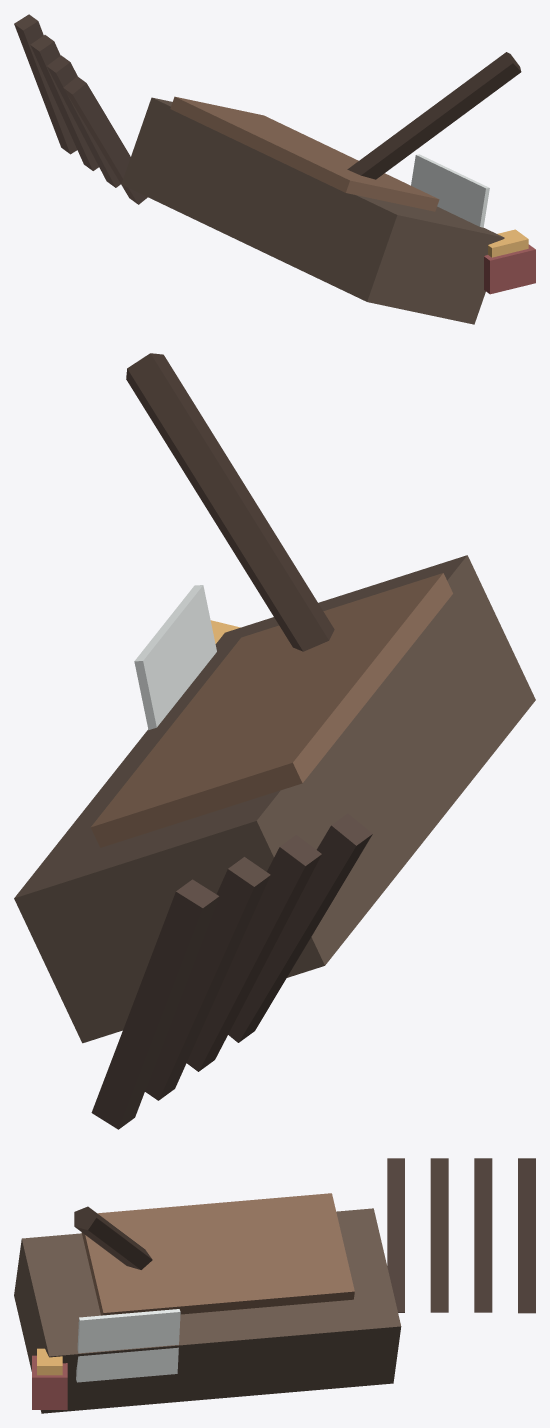
File: shipwreck.glb
The picture shows the model from 3 angles, top to bottom: view 1: azimuth 30°, elevation 25°; view 2: azimuth 150°, elevation 25°; view 3: azimuth 270°, elevation 25°; orthographic projection. The views are drawn at different scales.
Visible parts, largest first — view 1: hull, deck, mast, detail_sail, rib0, rib3, detail_chest, rib2, rib1, detail_gold; view 2: hull, deck, mast, rib3, rib2, rib1, rib0, detail_sail; view 3: hull, deck, detail_sail, rib1, rib2, rib3, rib0, mast, detail_chest, detail_gold.
Boxes of the visible parts, x1,y1,x2,y2 form: hull: (121, 97, 504, 324); deck: (170, 96, 439, 211); mast: (347, 52, 521, 179); detail_sail: (411, 154, 489, 227); rib0: (63, 76, 147, 204); rib3: (14, 14, 77, 154); detail_chest: (484, 244, 535, 294); rib2: (30, 35, 98, 170); rib1: (47, 55, 120, 187); detail_gold: (488, 229, 528, 257); hull: (14, 555, 535, 1043); deck: (90, 573, 452, 847); mast: (126, 353, 334, 651); rib3: (91, 879, 219, 1129); rib2: (145, 857, 270, 1100); rib1: (187, 835, 321, 1071); rib0: (228, 813, 372, 1042); detail_sail: (134, 585, 216, 730); hull: (14, 1208, 401, 1413); deck: (81, 1193, 354, 1315); detail_sail: (76, 1309, 180, 1382); rib1: (430, 1158, 448, 1312); rib2: (474, 1158, 492, 1312); rib3: (518, 1158, 535, 1313); rib0: (387, 1158, 404, 1312); mast: (74, 1206, 152, 1269); detail_chest: (32, 1355, 67, 1409); detail_gold: (37, 1348, 62, 1375).
Size of the model in its own units: 1.28 by 1.01 by 2.03.
